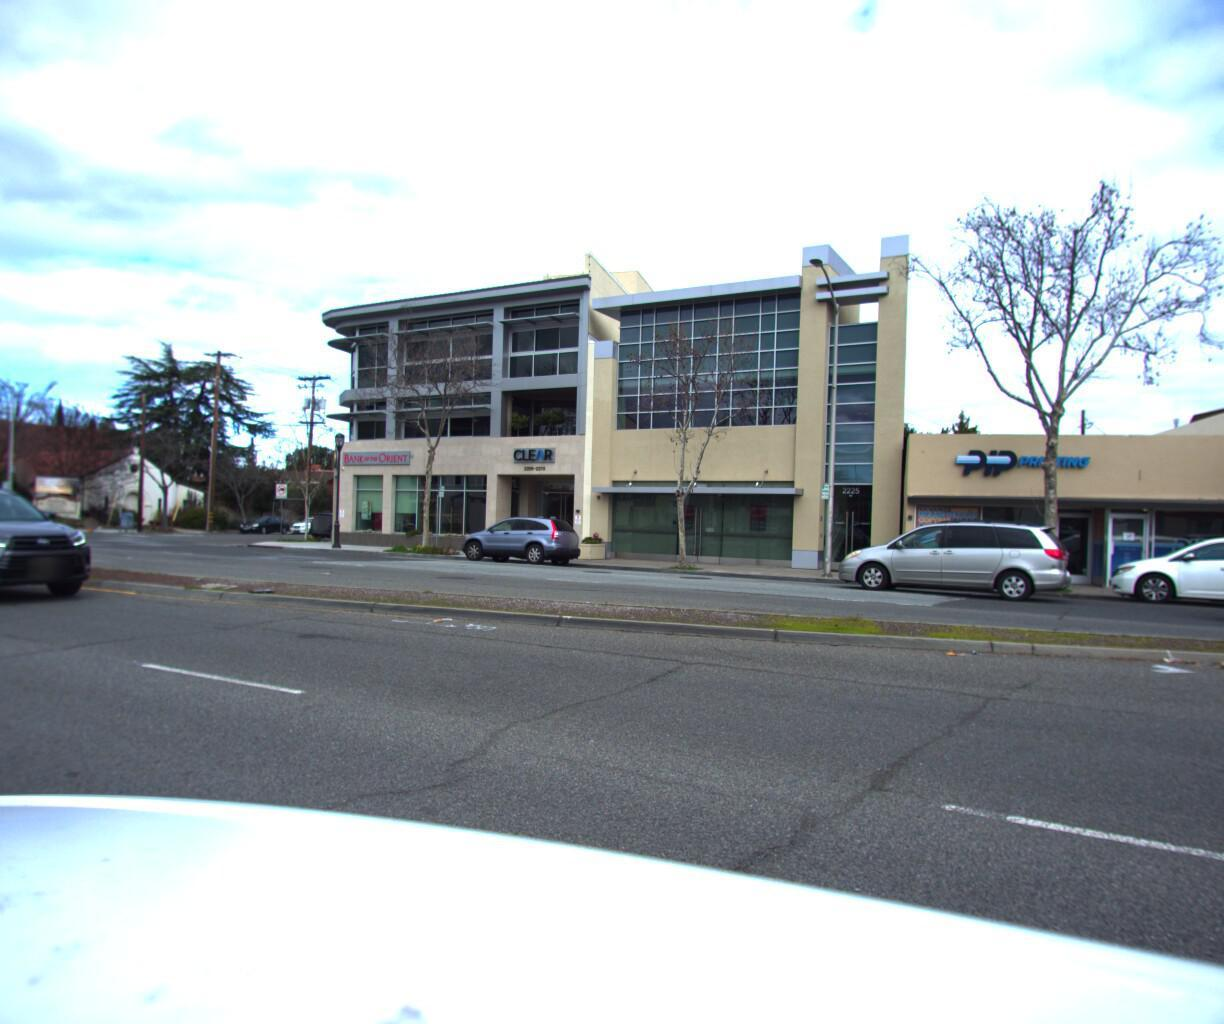car: (829, 513, 1078, 602), (0, 477, 125, 613), (1097, 522, 1224, 616), (443, 507, 592, 565), (300, 504, 374, 539), (232, 509, 290, 532), (285, 510, 336, 530)
